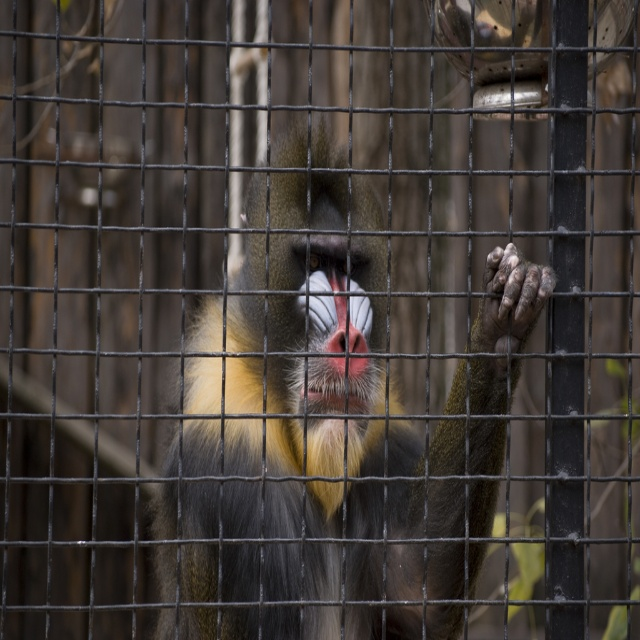Monkey: (142, 191, 506, 636)
